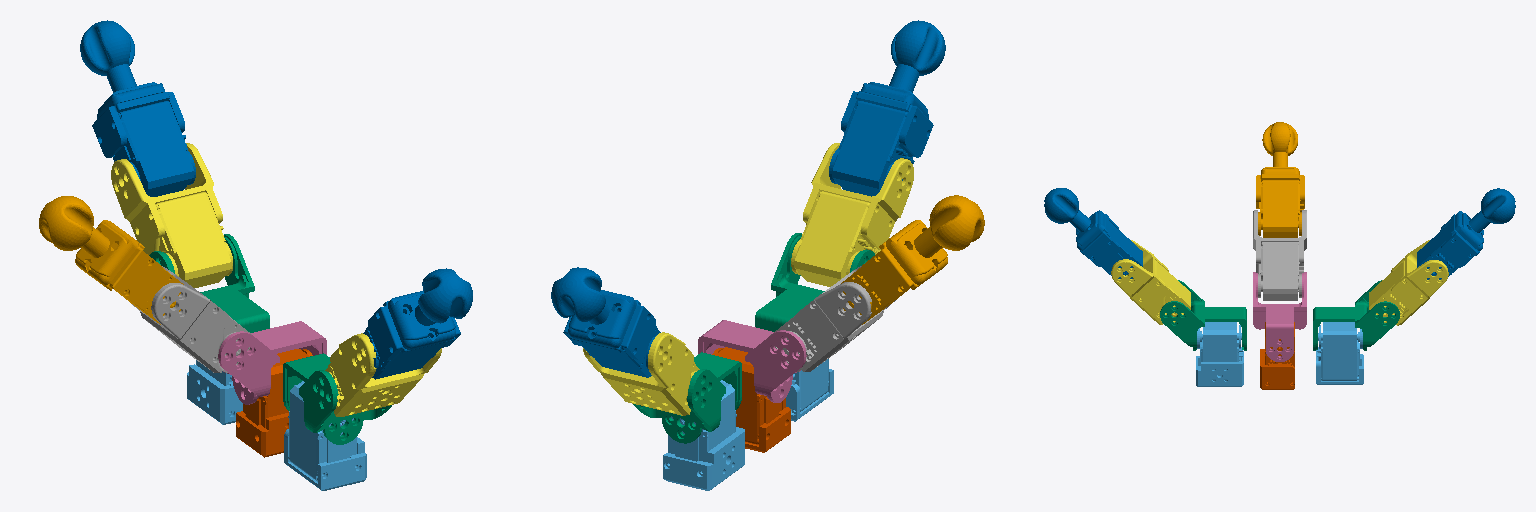
URDF robot description (dexremo_hand_mushroom):
<?xml version="1.0"?>
<!-- DexRemo three-finger hand. Generated from the STEP assembly; see README for assumptions. -->
<robot name="dexremo_hand_mushroom">
  <link name="base_link">
    <inertial><origin xyz="0.033405 0.000009 0.048806"/><mass value="1.18165"/><inertia ixx="2.098e-03" ixy="4.146e-06" ixz="-5.831e-04" iyy="8.608e-03" iyz="-4.166e-07" izz="9.446e-03"/></inertial>
    <visual><geometry><mesh filename="../meshes/dexremo_hand_mushroom/visual/base_link.stl"/></geometry></visual>
    <collision><geometry><mesh filename="../meshes/dexremo_hand_mushroom/collision/base_link_0.stl"/></geometry></collision>
    <collision><geometry><mesh filename="../meshes/dexremo_hand_mushroom/collision/base_link_1.stl"/></geometry></collision>
    <collision><geometry><mesh filename="../meshes/dexremo_hand_mushroom/collision/base_link_2.stl"/></geometry></collision>
    <collision><geometry><mesh filename="../meshes/dexremo_hand_mushroom/collision/base_link_3.stl"/></geometry></collision>
    <collision><geometry><mesh filename="../meshes/dexremo_hand_mushroom/collision/base_link_4.stl"/></geometry></collision>
    <collision><geometry><mesh filename="../meshes/dexremo_hand_mushroom/collision/base_link_5.stl"/></geometry></collision>
    <collision><geometry><mesh filename="../meshes/dexremo_hand_mushroom/collision/base_link_6.stl"/></geometry></collision>
    <collision><geometry><mesh filename="../meshes/dexremo_hand_mushroom/collision/base_link_7.stl"/></geometry></collision>
    <collision><geometry><mesh filename="../meshes/dexremo_hand_mushroom/collision/base_link_8.stl"/></geometry></collision>
    <collision><geometry><mesh filename="../meshes/dexremo_hand_mushroom/collision/base_link_9.stl"/></geometry></collision>
    <collision><geometry><mesh filename="../meshes/dexremo_hand_mushroom/collision/base_link_10.stl"/></geometry></collision>
  </link>
  <link name="left_cmc1_link">
    <inertial><origin xyz="-0.000829 -0.000130 0.042133"/><mass value="0.06543"/><inertia ixx="1.978e-05" ixy="-2.319e-08" ixz="-6.846e-07" iyy="1.667e-05" iyz="-1.726e-07" izz="1.071e-05"/></inertial>
    <visual><geometry><mesh filename="../meshes/dexremo_hand_mushroom/visual/left_cmc1_link.stl"/></geometry></visual>
    <collision><geometry><mesh filename="../meshes/dexremo_hand_mushroom/collision/left_cmc1_link_0.stl"/></geometry></collision>
    <collision><geometry><mesh filename="../meshes/dexremo_hand_mushroom/collision/left_cmc1_link_1.stl"/></geometry></collision>
  </link>
  <joint name="left_cmc1" type="revolute"><parent link="base_link"/><child link="left_cmc1_link"/><origin xyz="-0.010908 0.049950 0.063442"/><axis xyz="0.000000 0.000000 -1.000000"/><limit lower="-1.5708" upper="1.5708" effort="1.90" velocity="4.70"/><dynamics damping="0.1"/></joint>
  <link name="left_cmc2_link">
    <inertial><origin xyz="-0.000127 0.013888 0.015825"/><mass value="0.01913"/><inertia ixx="9.806e-06" ixy="1.059e-07" ixz="4.325e-08" iyy="6.207e-06" iyz="-1.503e-06" izz="1.157e-05"/></inertial>
    <visual><geometry><mesh filename="../meshes/dexremo_hand_mushroom/visual/left_cmc2_link.stl"/></geometry></visual>
    <collision><geometry><mesh filename="../meshes/dexremo_hand_mushroom/collision/left_cmc2_link_0.stl"/></geometry></collision>
  </link>
  <joint name="left_cmc2" type="revolute"><parent link="left_cmc1_link"/><child link="left_cmc2_link"/><origin xyz="0.000000 -0.000100 0.058000"/><axis xyz="0.000000 -1.000000 0.000000"/><limit lower="-1.5708" upper="1.5708" effort="1.90" velocity="4.70"/><dynamics damping="0.1"/></joint>
  <link name="left_mcp_link">
    <inertial><origin xyz="-0.000258 0.013788 0.011813"/><mass value="0.07467"/><inertia ixx="2.426e-05" ixy="1.303e-08" ixz="-3.361e-08" iyy="2.189e-05" iyz="-7.499e-06" izz="2.261e-05"/></inertial>
    <visual><geometry><mesh filename="../meshes/dexremo_hand_mushroom/visual/left_mcp_link.stl"/></geometry></visual>
    <collision><geometry><mesh filename="../meshes/dexremo_hand_mushroom/collision/left_mcp_link_0.stl"/></geometry></collision>
    <collision><geometry><mesh filename="../meshes/dexremo_hand_mushroom/collision/left_mcp_link_1.stl"/></geometry></collision>
  </link>
  <joint name="left_mcp" type="revolute"><parent link="left_cmc2_link"/><child link="left_mcp_link"/><origin xyz="0.000300 0.037800 0.030000"/><axis xyz="-1.000000 0.000000 0.000000"/><limit lower="-1.5708" upper="1.5708" effort="1.90" velocity="4.70"/><dynamics damping="0.1"/></joint>
  <link name="left_ip_link">
    <inertial><origin xyz="-0.000117 0.019321 0.019280"/><mass value="0.08709"/><inertia ixx="6.005e-05" ixy="-9.093e-08" ixz="-9.088e-08" iyy="3.804e-05" iyz="-2.159e-05" izz="3.829e-05"/></inertial>
    <visual><geometry><mesh filename="../meshes/dexremo_hand_mushroom/visual/left_ip_link.stl"/></geometry></visual>
    <collision><geometry><mesh filename="../meshes/dexremo_hand_mushroom/collision/left_ip_link_0.stl"/></geometry></collision>
    <collision><geometry><mesh filename="../meshes/dexremo_hand_mushroom/collision/left_ip_link_1.stl"/></geometry></collision>
    <collision><geometry><mesh filename="../meshes/dexremo_hand_mushroom/collision/left_ip_link_2.stl"/></geometry></collision>
  </link>
  <joint name="left_ip" type="revolute"><parent link="left_mcp_link"/><child link="left_ip_link"/><origin xyz="0.000200 0.040447 0.037618"/><axis xyz="-1.000000 0.000000 0.000000"/><limit lower="-1.5708" upper="1.5708" effort="1.90" velocity="4.70"/><dynamics damping="0.1"/></joint>
  <link name="mid_cmc1_link">
    <inertial><origin xyz="0.000130 -0.000829 0.042133"/><mass value="0.06543"/><inertia ixx="1.667e-05" ixy="2.319e-08" ixz="1.726e-07" iyy="1.978e-05" iyz="-6.846e-07" izz="1.071e-05"/></inertial>
    <visual><geometry><mesh filename="../meshes/dexremo_hand_mushroom/visual/mid_cmc1_link.stl"/></geometry></visual>
    <collision><geometry><mesh filename="../meshes/dexremo_hand_mushroom/collision/mid_cmc1_link_0.stl"/></geometry></collision>
    <collision><geometry><mesh filename="../meshes/dexremo_hand_mushroom/collision/mid_cmc1_link_1.stl"/></geometry></collision>
  </link>
  <joint name="mid_cmc1" type="revolute"><parent link="base_link"/><child link="mid_cmc1_link"/><origin xyz="-0.009008 -0.000050 0.063442"/><axis xyz="0.000000 0.000000 -1.000000"/><limit lower="-1.5708" upper="1.5708" effort="1.90" velocity="4.70"/><dynamics damping="0.1"/></joint>
  <link name="mid_cmc2_link">
    <inertial><origin xyz="-0.013888 -0.000127 0.015825"/><mass value="0.01913"/><inertia ixx="6.207e-06" ixy="-1.059e-07" ixz="1.503e-06" iyy="9.806e-06" iyz="4.325e-08" izz="1.157e-05"/></inertial>
    <visual><geometry><mesh filename="../meshes/dexremo_hand_mushroom/visual/mid_cmc2_link.stl"/></geometry></visual>
    <collision><geometry><mesh filename="../meshes/dexremo_hand_mushroom/collision/mid_cmc2_link_0.stl"/></geometry></collision>
  </link>
  <joint name="mid_cmc2" type="revolute"><parent link="mid_cmc1_link"/><child link="mid_cmc2_link"/><origin xyz="0.000100 0.000000 0.058000"/><axis xyz="1.000000 0.000000 0.000000"/><limit lower="-1.5708" upper="1.5708" effort="1.90" velocity="4.70"/><dynamics damping="0.1"/></joint>
  <link name="mid_mcp_link">
    <inertial><origin xyz="-0.013788 -0.000258 0.011813"/><mass value="0.07467"/><inertia ixx="2.189e-05" ixy="-1.303e-08" ixz="7.499e-06" iyy="2.426e-05" iyz="-3.361e-08" izz="2.261e-05"/></inertial>
    <visual><geometry><mesh filename="../meshes/dexremo_hand_mushroom/visual/mid_mcp_link.stl"/></geometry></visual>
    <collision><geometry><mesh filename="../meshes/dexremo_hand_mushroom/collision/mid_mcp_link_0.stl"/></geometry></collision>
    <collision><geometry><mesh filename="../meshes/dexremo_hand_mushroom/collision/mid_mcp_link_1.stl"/></geometry></collision>
  </link>
  <joint name="mid_mcp" type="revolute"><parent link="mid_cmc2_link"/><child link="mid_mcp_link"/><origin xyz="-0.037800 0.000300 0.030000"/><axis xyz="0.000000 -1.000000 0.000000"/><limit lower="-1.5708" upper="1.5708" effort="1.90" velocity="4.70"/><dynamics damping="0.1"/></joint>
  <link name="mid_ip_link">
    <inertial><origin xyz="-0.019321 -0.000117 0.019280"/><mass value="0.08709"/><inertia ixx="3.804e-05" ixy="9.093e-08" ixz="2.159e-05" iyy="6.005e-05" iyz="-9.088e-08" izz="3.829e-05"/></inertial>
    <visual><geometry><mesh filename="../meshes/dexremo_hand_mushroom/visual/mid_ip_link.stl"/></geometry></visual>
    <collision><geometry><mesh filename="../meshes/dexremo_hand_mushroom/collision/mid_ip_link_0.stl"/></geometry></collision>
    <collision><geometry><mesh filename="../meshes/dexremo_hand_mushroom/collision/mid_ip_link_1.stl"/></geometry></collision>
    <collision><geometry><mesh filename="../meshes/dexremo_hand_mushroom/collision/mid_ip_link_2.stl"/></geometry></collision>
  </link>
  <joint name="mid_ip" type="revolute"><parent link="mid_mcp_link"/><child link="mid_ip_link"/><origin xyz="-0.040447 0.000200 0.037618"/><axis xyz="0.000000 -1.000000 0.000000"/><limit lower="-1.5708" upper="1.5708" effort="1.90" velocity="4.70"/><dynamics damping="0.1"/></joint>
  <link name="right_cmc1_link">
    <inertial><origin xyz="0.000829 0.000130 0.042133"/><mass value="0.06543"/><inertia ixx="1.978e-05" ixy="-2.319e-08" ixz="6.846e-07" iyy="1.667e-05" iyz="1.726e-07" izz="1.071e-05"/></inertial>
    <visual><geometry><mesh filename="../meshes/dexremo_hand_mushroom/visual/right_cmc1_link.stl"/></geometry></visual>
    <collision><geometry><mesh filename="../meshes/dexremo_hand_mushroom/collision/right_cmc1_link_0.stl"/></geometry></collision>
    <collision><geometry><mesh filename="../meshes/dexremo_hand_mushroom/collision/right_cmc1_link_1.stl"/></geometry></collision>
  </link>
  <joint name="right_cmc1" type="revolute"><parent link="base_link"/><child link="right_cmc1_link"/><origin xyz="-0.011008 -0.050050 0.063642"/><axis xyz="0.000000 0.000000 -1.000000"/><limit lower="-1.5708" upper="1.5708" effort="1.90" velocity="4.70"/><dynamics damping="0.1"/></joint>
  <link name="right_cmc2_link">
    <inertial><origin xyz="0.000127 -0.013888 0.015825"/><mass value="0.01913"/><inertia ixx="9.806e-06" ixy="1.059e-07" ixz="-4.325e-08" iyy="6.207e-06" iyz="1.503e-06" izz="1.157e-05"/></inertial>
    <visual><geometry><mesh filename="../meshes/dexremo_hand_mushroom/visual/right_cmc2_link.stl"/></geometry></visual>
    <collision><geometry><mesh filename="../meshes/dexremo_hand_mushroom/collision/right_cmc2_link_0.stl"/></geometry></collision>
  </link>
  <joint name="right_cmc2" type="revolute"><parent link="right_cmc1_link"/><child link="right_cmc2_link"/><origin xyz="0.000000 0.000100 0.058000"/><axis xyz="0.000000 1.000000 0.000000"/><limit lower="-1.5708" upper="1.5708" effort="1.90" velocity="4.70"/><dynamics damping="0.1"/></joint>
  <link name="right_mcp_link">
    <inertial><origin xyz="0.000258 -0.013788 0.011813"/><mass value="0.07467"/><inertia ixx="2.426e-05" ixy="1.303e-08" ixz="3.361e-08" iyy="2.189e-05" iyz="7.499e-06" izz="2.261e-05"/></inertial>
    <visual><geometry><mesh filename="../meshes/dexremo_hand_mushroom/visual/right_mcp_link.stl"/></geometry></visual>
    <collision><geometry><mesh filename="../meshes/dexremo_hand_mushroom/collision/right_mcp_link_0.stl"/></geometry></collision>
    <collision><geometry><mesh filename="../meshes/dexremo_hand_mushroom/collision/right_mcp_link_1.stl"/></geometry></collision>
  </link>
  <joint name="right_mcp" type="revolute"><parent link="right_cmc2_link"/><child link="right_mcp_link"/><origin xyz="-0.000300 -0.037800 0.030000"/><axis xyz="1.000000 0.000000 0.000000"/><limit lower="-1.5708" upper="1.5708" effort="1.90" velocity="4.70"/><dynamics damping="0.1"/></joint>
  <link name="right_ip_link">
    <inertial><origin xyz="0.000117 -0.019321 0.019280"/><mass value="0.08709"/><inertia ixx="6.005e-05" ixy="-9.093e-08" ixz="9.088e-08" iyy="3.804e-05" iyz="2.159e-05" izz="3.829e-05"/></inertial>
    <visual><geometry><mesh filename="../meshes/dexremo_hand_mushroom/visual/right_ip_link.stl"/></geometry></visual>
    <collision><geometry><mesh filename="../meshes/dexremo_hand_mushroom/collision/right_ip_link_0.stl"/></geometry></collision>
    <collision><geometry><mesh filename="../meshes/dexremo_hand_mushroom/collision/right_ip_link_1.stl"/></geometry></collision>
    <collision><geometry><mesh filename="../meshes/dexremo_hand_mushroom/collision/right_ip_link_2.stl"/></geometry></collision>
  </link>
  <joint name="right_ip" type="revolute"><parent link="right_mcp_link"/><child link="right_ip_link"/><origin xyz="-0.000200 -0.040447 0.037618"/><axis xyz="1.000000 0.000000 0.000000"/><limit lower="-1.5708" upper="1.5708" effort="1.90" velocity="4.70"/><dynamics damping="0.1"/></joint>
</robot>

--- Render facts (derived) ---
The picture shows the robot from 3 angles, left to right: view 1: azimuth 30°, elevation 25°; view 2: azimuth 150°, elevation 25°; view 3: azimuth 270°, elevation 25°; orthographic projection.
Robot: dexremo_hand_mushroom — 13 links, 12 joints (12 revolute); root link base_link; default pose: all joints at 0.
Links seen in each view (by area): view 1: left_ip_link, left_mcp_link, mid_ip_link, right_ip_link, mid_mcp_link, mid_cmc2_link, right_cmc1_link, right_mcp_link, right_cmc2_link, mid_cmc1_link, left_cmc2_link, left_cmc1_link; view 2: right_ip_link, right_mcp_link, mid_ip_link, left_ip_link, mid_mcp_link, left_cmc1_link, mid_cmc2_link, left_mcp_link, left_cmc2_link, mid_cmc1_link, right_cmc2_link, right_cmc1_link; view 3: mid_ip_link, right_ip_link, left_ip_link, mid_mcp_link, right_mcp_link, left_mcp_link, right_cmc1_link, left_cmc1_link, mid_cmc2_link, left_cmc2_link, right_cmc2_link, mid_cmc1_link.
Link boxes in pixels (<box>): left_ip_link: <box>80,20,195,196</box>; left_mcp_link: <box>111,143,232,287</box>; mid_ip_link: <box>39,196,183,324</box>; right_ip_link: <box>363,268,472,379</box>; mid_mcp_link: <box>132,266,251,372</box>; mid_cmc2_link: <box>218,321,326,404</box>; right_cmc1_link: <box>284,381,366,490</box>; right_mcp_link: <box>325,333,441,416</box>; right_cmc2_link: <box>283,353,391,444</box>; mid_cmc1_link: <box>236,349,312,457</box>; left_cmc2_link: <box>149,234,269,332</box>; left_cmc1_link: <box>187,360,242,424</box>; right_ip_link: <box>829,20,945,196</box>; right_mcp_link: <box>791,143,913,286</box>; mid_ip_link: <box>841,195,984,324</box>; left_ip_link: <box>551,267,660,377</box>; mid_mcp_link: <box>770,266,895,371</box>; left_cmc1_link: <box>663,380,744,490</box>; mid_cmc2_link: <box>698,320,806,402</box>; left_mcp_link: <box>583,332,699,415</box>; left_cmc2_link: <box>633,352,741,443</box>; mid_cmc1_link: <box>712,347,790,452</box>; right_cmc2_link: <box>755,233,874,331</box>; right_cmc1_link: <box>786,359,833,421</box>; mid_ip_link: <box>1256,122,1304,237</box>; right_ip_link: <box>1044,188,1142,278</box>; left_ip_link: <box>1417,188,1515,279</box>; mid_mcp_link: <box>1253,210,1306,300</box>; right_mcp_link: <box>1111,240,1190,324</box>; left_mcp_link: <box>1369,240,1448,325</box>; right_cmc1_link: <box>1196,322,1243,386</box>; left_cmc1_link: <box>1316,322,1363,384</box>; mid_cmc2_link: <box>1253,272,1306,361</box>; left_cmc2_link: <box>1313,280,1399,350</box>; right_cmc2_link: <box>1160,280,1246,350</box>; mid_cmc1_link: <box>1260,322,1294,389</box>.
Bounding box of the posed robot: 0.1681 × 0.3915 × 0.1744 m (x, y, z).
Meshes: 13 distinct files referenced, 12 mesh visuals loaded (12 binary STL); not drawn: 1 (reference not matched to a file when rendering).
